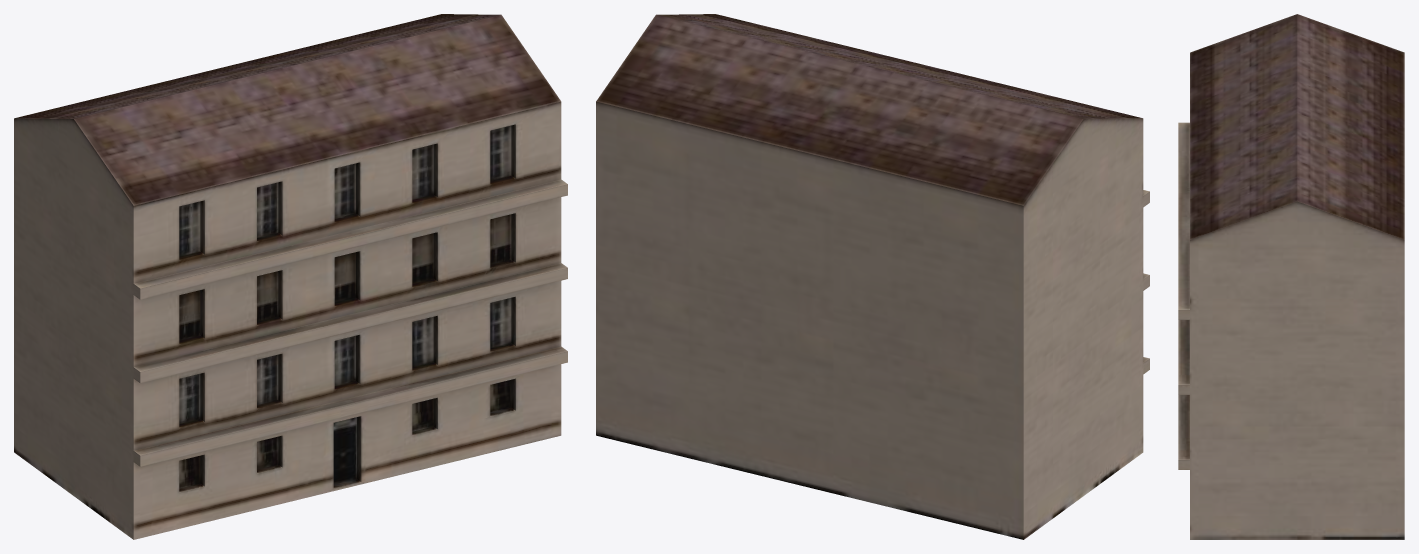
Rendered from london_victorian_corner.gltf.
3 views of the same model, side by side, from view 1: azimuth 30°, elevation 25°; view 2: azimuth 150°, elevation 25°; view 3: azimuth 270°, elevation 25° (orthographic). The views are drawn at different scales.
Visible parts, largest first — view 1: Object_30; view 2: Object_30; view 3: Object_30.
Boxes of the visible parts, x1,y1,x2,y2 form: Object_30: (14, 14, 567, 539); Object_30: (596, 14, 1149, 539); Object_30: (1178, 14, 1404, 539).
Size of the model in its own units: 18.99 by 16 by 9.7.
1 material, 1 textured.
